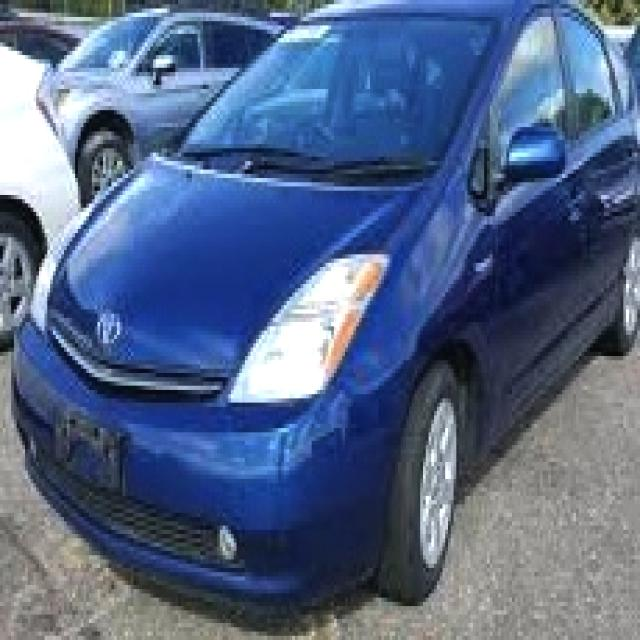blue: (5, 0, 640, 612)
silver: (44, 8, 270, 144)
white: (1, 34, 66, 254)
